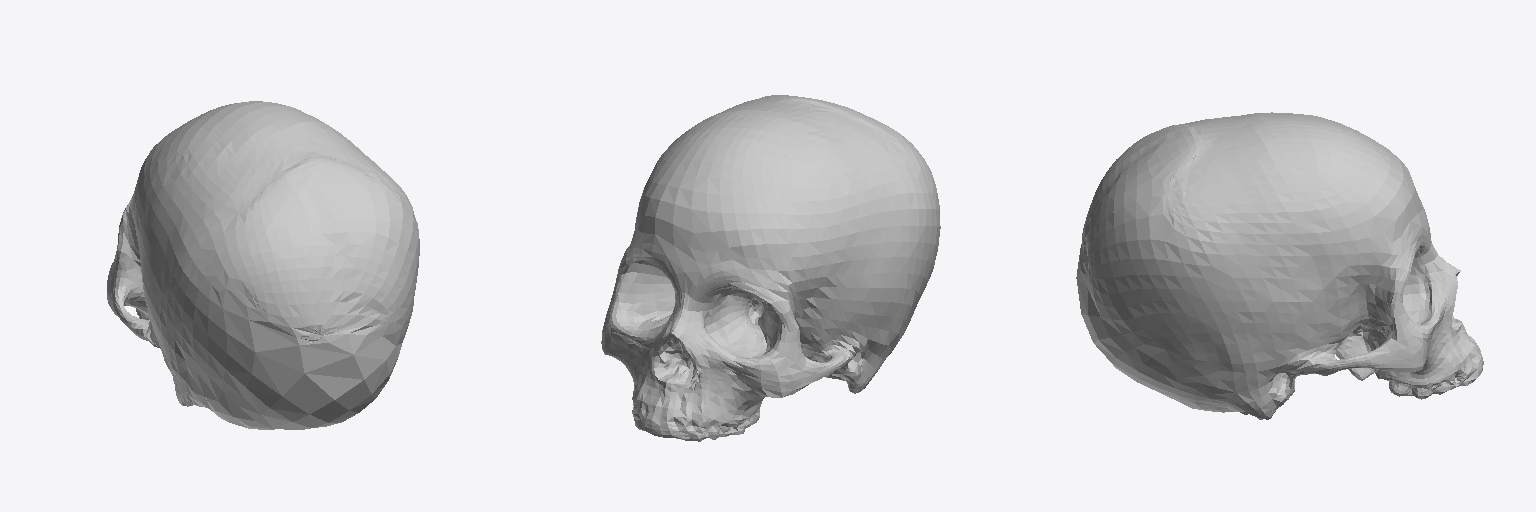
Rendered from skull_low.obj.
The picture shows the model from 3 angles: view 1: azimuth 30°, elevation 25°; view 2: azimuth 150°, elevation 25°; view 3: azimuth 270°, elevation 25°; orthographic projection.
Parts seen in each view (by area): view 1: ZBrushPolyMesh3D; view 2: ZBrushPolyMesh3D; view 3: ZBrushPolyMesh3D.
Part boxes in pixels (x1,y1,x2,y2): ZBrushPolyMesh3D: (107, 101, 419, 429); ZBrushPolyMesh3D: (601, 95, 940, 441); ZBrushPolyMesh3D: (1076, 112, 1483, 419).
Bounding box in the file's own units: 130 × 141 × 194.